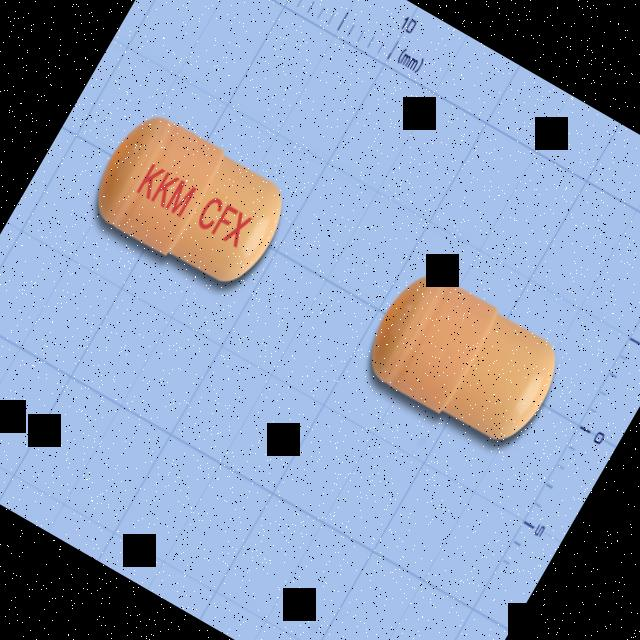Cefick Cap: (76, 98, 305, 309)
